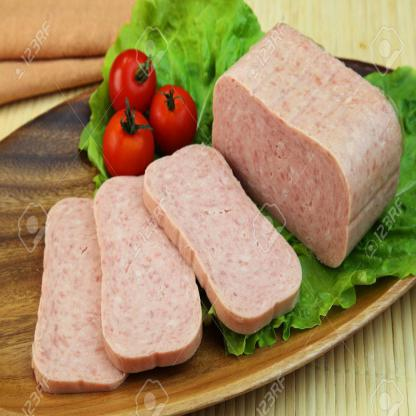spam: (218, 30, 404, 232), (147, 146, 297, 314)
